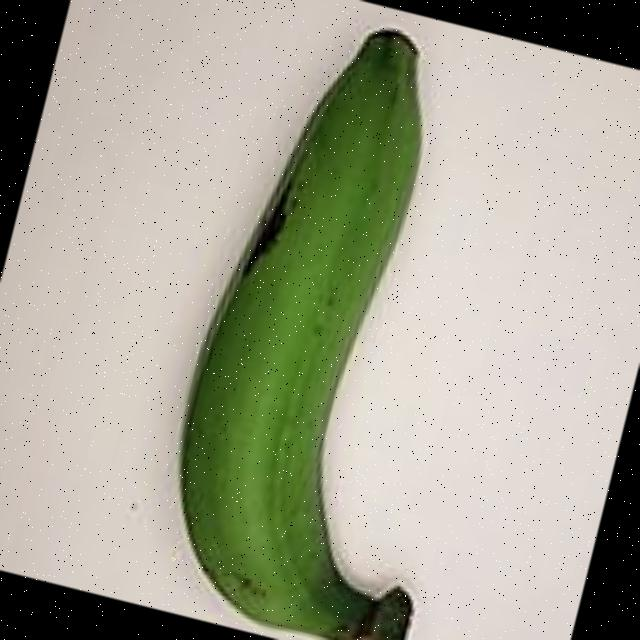Raw: (82, 0, 585, 640)
